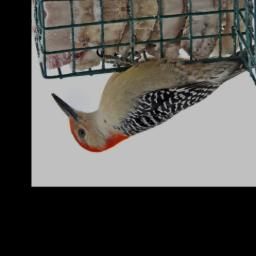Woodpecker: (46, 35, 256, 155)
